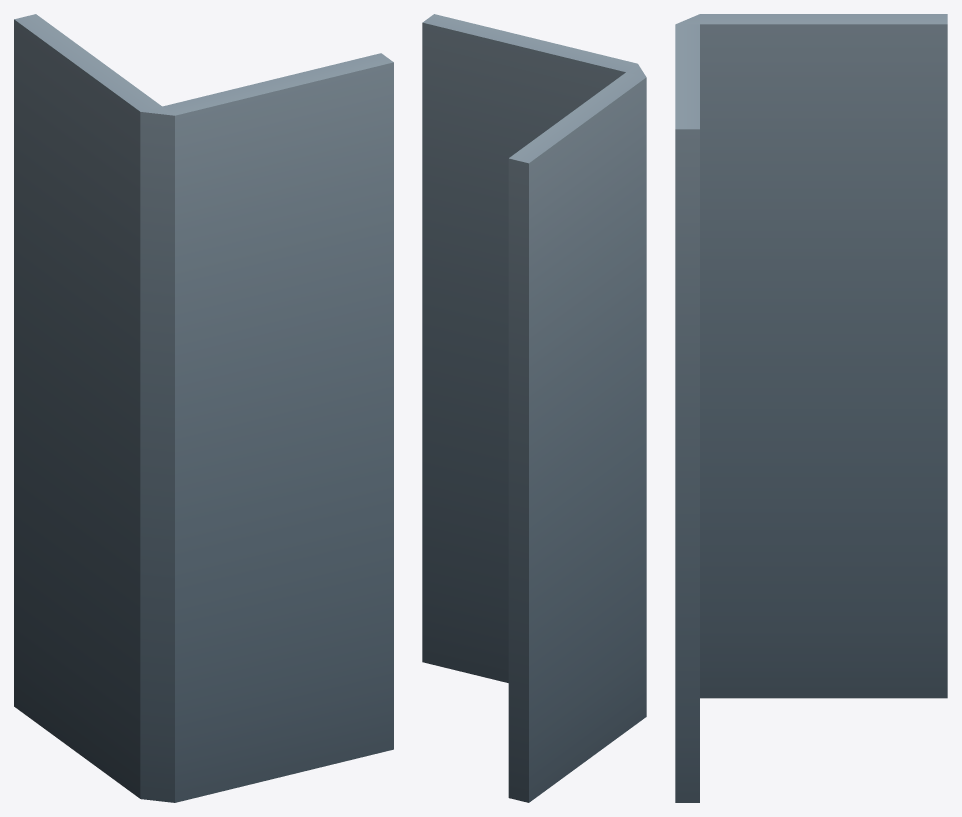
File: Wall_Corner_1_LODGroup.fbx
3 views of the same model, side by side, from view 1: azimuth 30°, elevation 25°; view 2: azimuth 150°, elevation 25°; view 3: azimuth 270°, elevation 25° (orthographic). The views are drawn at different scales.
Visible parts, largest first — view 1: Wall Corner 1_LOD0; view 2: Wall Corner 1_LOD0; view 3: Wall Corner 1_LOD0.
Part boxes in pixels (box(x1,y1,x2,y2)): Wall Corner 1_LOD0: box(14, 14, 393, 802); Wall Corner 1_LOD0: box(422, 14, 646, 802); Wall Corner 1_LOD0: box(675, 14, 947, 802).
Size of what is drawn, in the model's own units: 1.1 by 3 by 1.1.
Materials: 1 (1 with a texture image).
